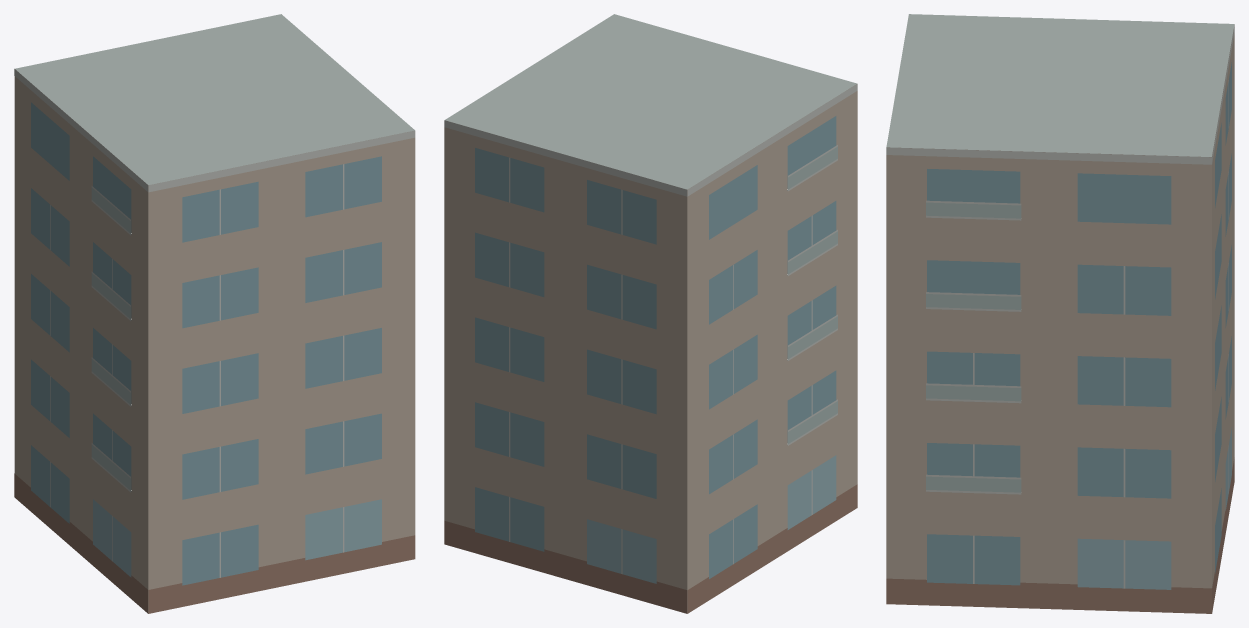
Rendered from survey-upis-32699044.glb.
The picture shows the model from 3 angles, left to right: view 1: azimuth 30°, elevation 25°; view 2: azimuth 150°, elevation 25°; view 3: azimuth 270°, elevation 25°; orthographic projection. The views are drawn at different scales.
Parts seen in each view (by area): view 1: survey-upis-32699044.tmp; view 2: survey-upis-32699044.tmp; view 3: survey-upis-32699044.tmp.
Part boxes in pixels (x1,y1,x2,y2): survey-upis-32699044.tmp: [14, 14, 415, 613]; survey-upis-32699044.tmp: [444, 14, 857, 613]; survey-upis-32699044.tmp: [886, 14, 1234, 613].
Size of the model in its own units: 9.82 by 14.6 by 10.1.
